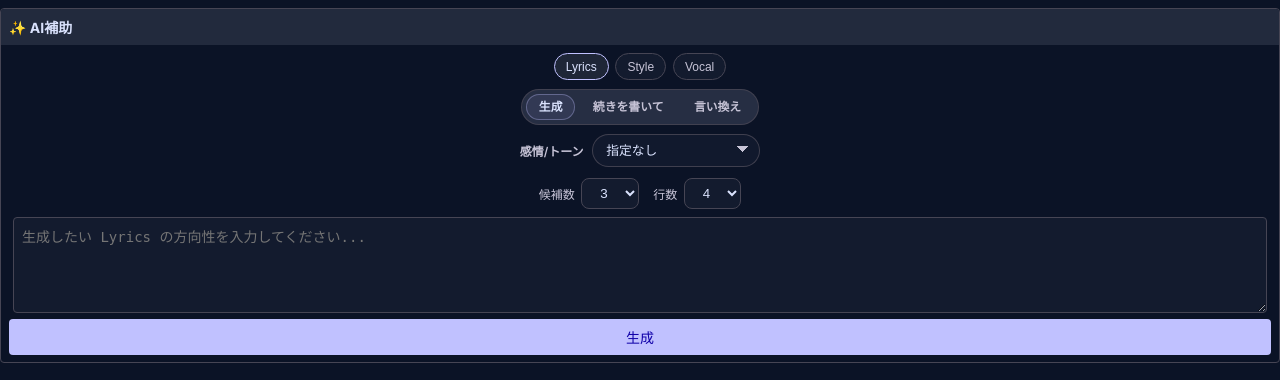
Scenario: LLMAssistPanel › mode tabs (lyrics only) › should change placeholder in paraphrase mode
Click the tab "言い換え" at (718, 107), box x1=681 y1=94 x2=754 y2=120
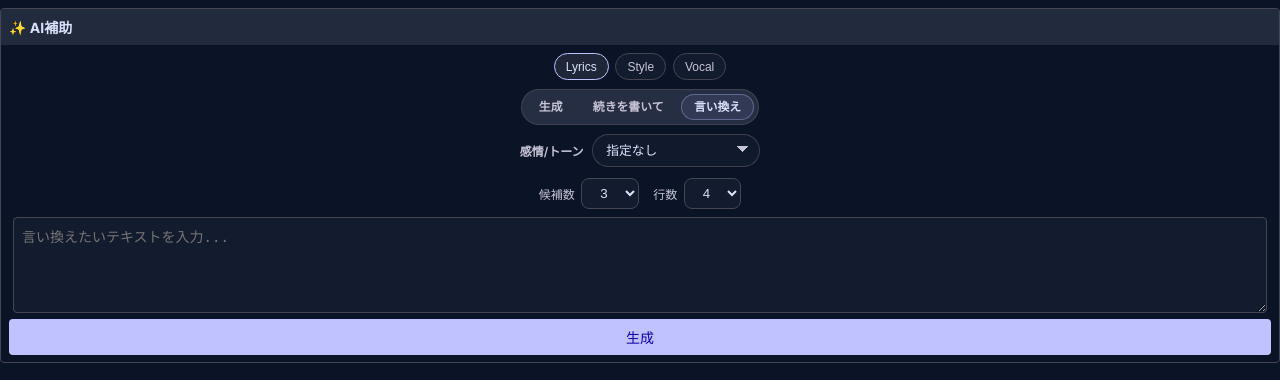
Expected: the text box with placeholder "言い換えたいテキストを入力..." is shown, x1=13 y1=217 x2=1267 y2=313
